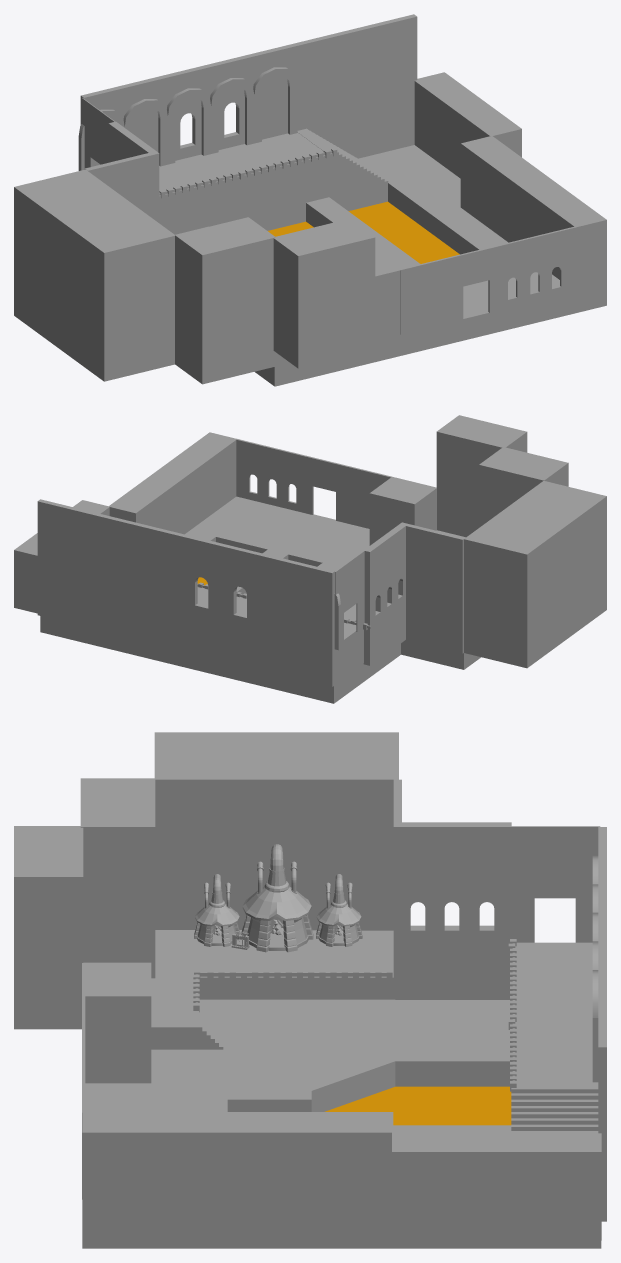
Rendered from Forge_Blockout_TempWindows.fbx.
The picture shows the model from 3 angles, top to bottom: view 1: azimuth 30°, elevation 25°; view 2: azimuth 150°, elevation 25°; view 3: azimuth 270°, elevation 25°; orthographic projection. The views are drawn at different scales.
Parts seen in each view (by area): view 1: pCylinder14; view 2: pCylinder14; view 3: pCylinder14.
Part boxes in pixels (x1=…): pCylinder14: x1=14, y1=14, x2=606, y2=386; pCylinder14: x1=14, y1=415, x2=606, y2=703; pCylinder14: x1=14, y1=732, x2=606, y2=1248.
Size of the model in its own units: 36.79 by 10.41 by 27.61.
